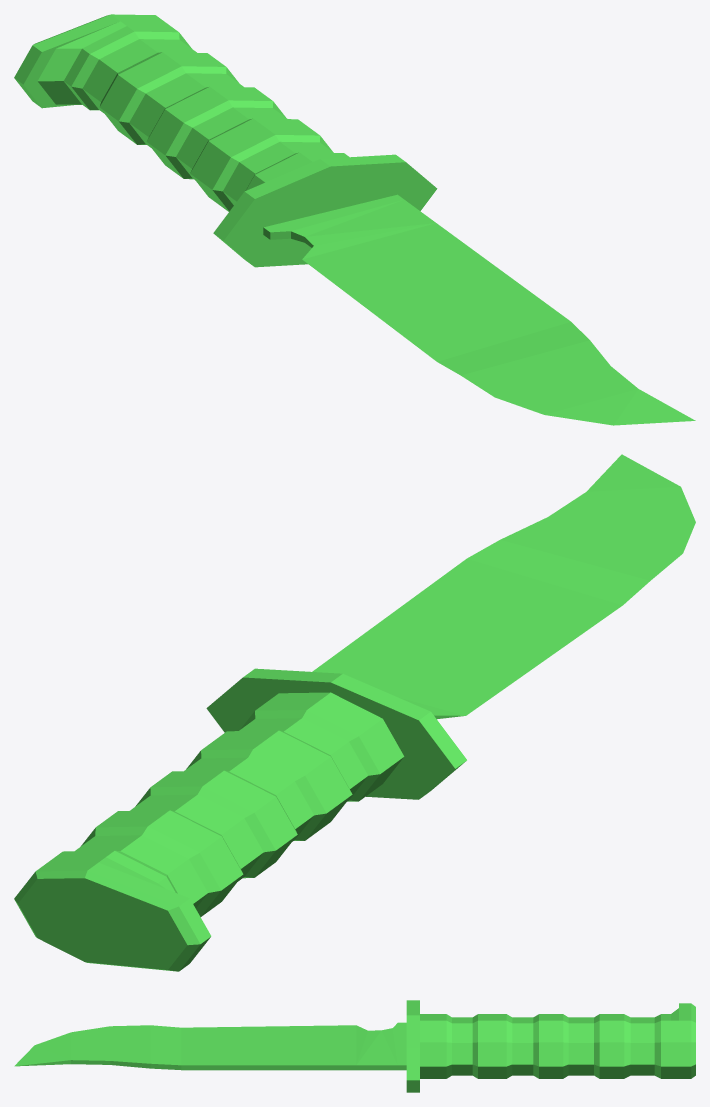
Rendered from knife_2.fbx.
3 renders of one model, top to bottom at view 1: azimuth 30°, elevation 25°; view 2: azimuth 150°, elevation 25°; view 3: azimuth 270°, elevation 25°, orthographic. The views are drawn at different scales.
Visible parts, largest first — view 1: knife_2; view 2: knife_2; view 3: knife_2.
Part boxes in pixels (x1=…): knife_2: x1=14, y1=14, x2=695, y2=425; knife_2: x1=14, y1=454, x2=695, y2=971; knife_2: x1=14, y1=1000, x2=695, y2=1092.
Bounding box in the file's own units: 31.64 × 13.64 × 135.
